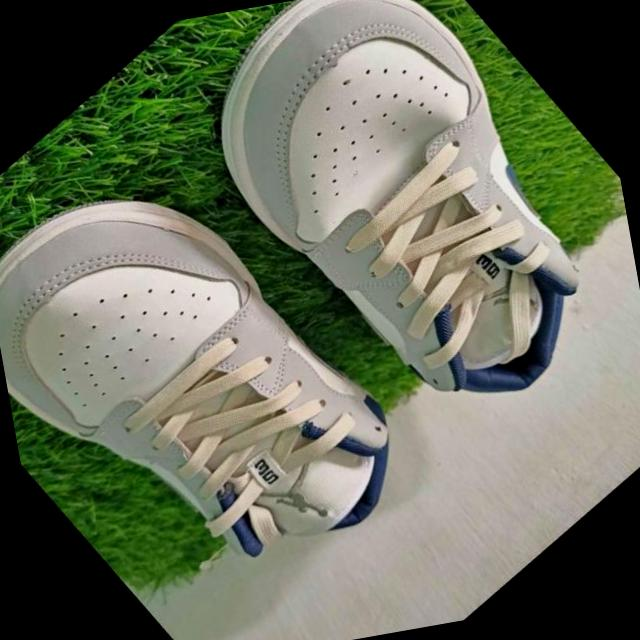nike_fake_jordan: (0, 86, 462, 640), (149, 0, 640, 490)
